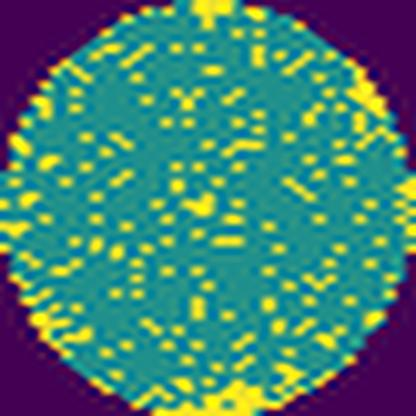Edge-Loc: (144, 374, 298, 416), (342, 57, 390, 119), (185, 0, 233, 32)
